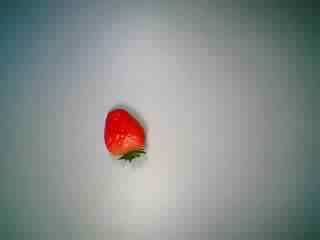strawberry: (91, 102, 159, 166)
